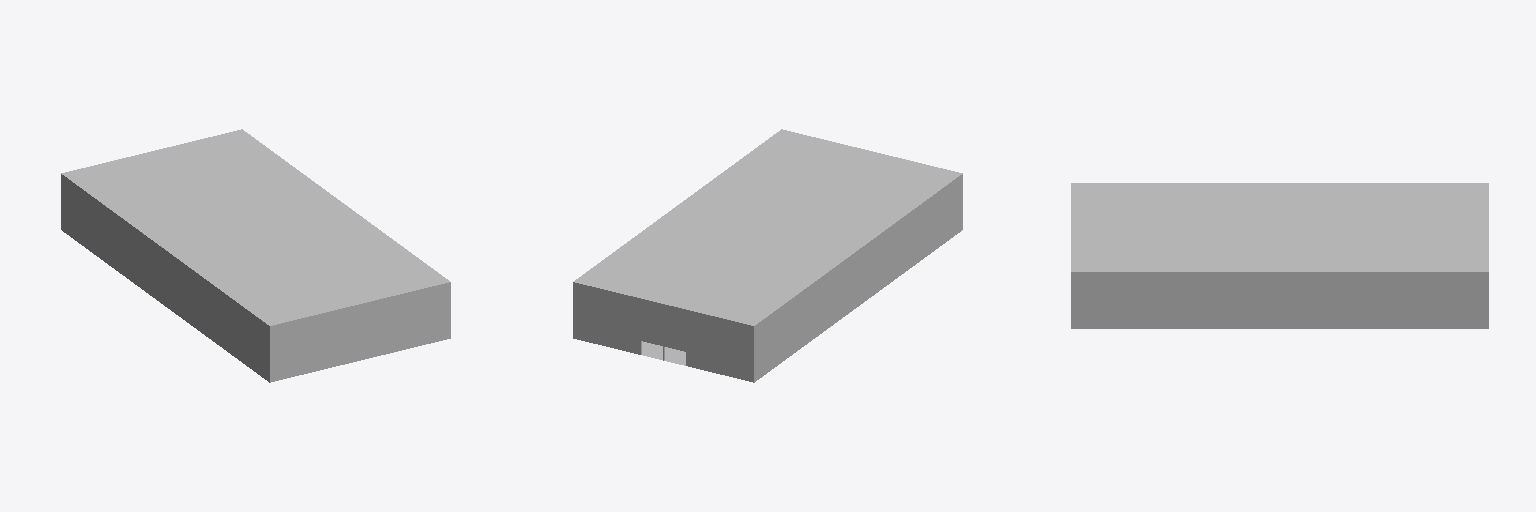
The model's file is boxBuilding.obj.
3 views of the same model, side by side, from view 1: azimuth 30°, elevation 25°; view 2: azimuth 150°, elevation 25°; view 3: azimuth 270°, elevation 25° (orthographic).
Bounding box in the file's own units: 302 × 90 × 602.